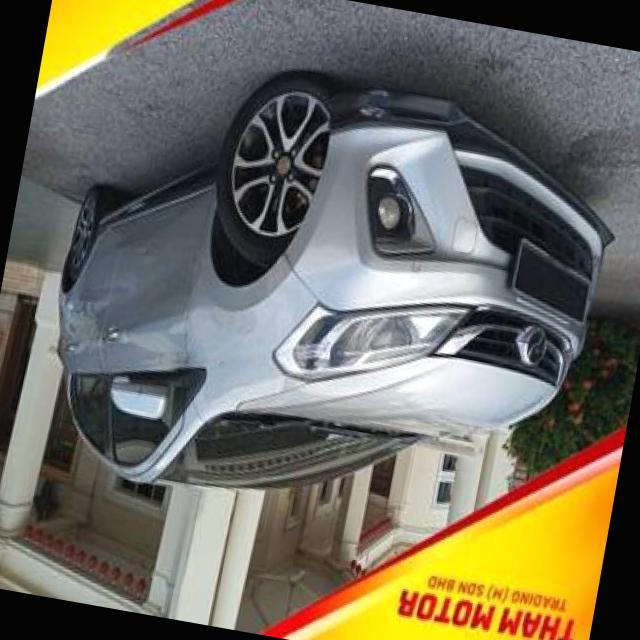PeroduaMyvi: (26, 35, 635, 562)
